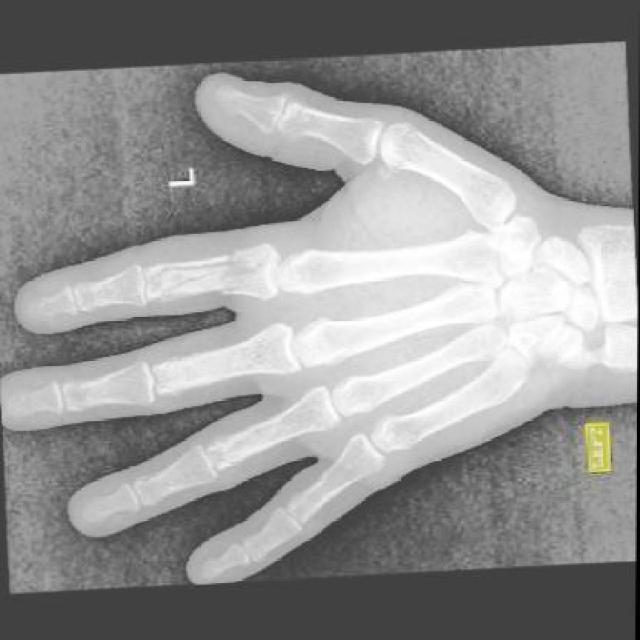Fracture: (209, 237, 284, 314)
